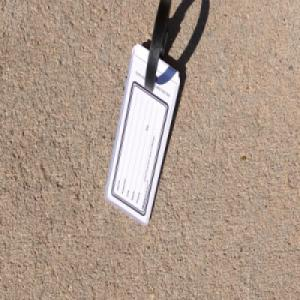LuggageTag: (103, 0, 181, 228)
